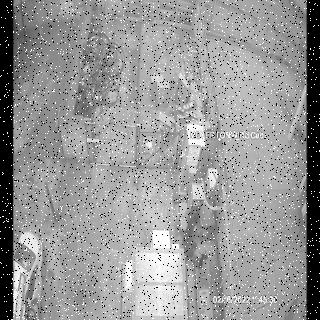car: (13, 230, 45, 318)
